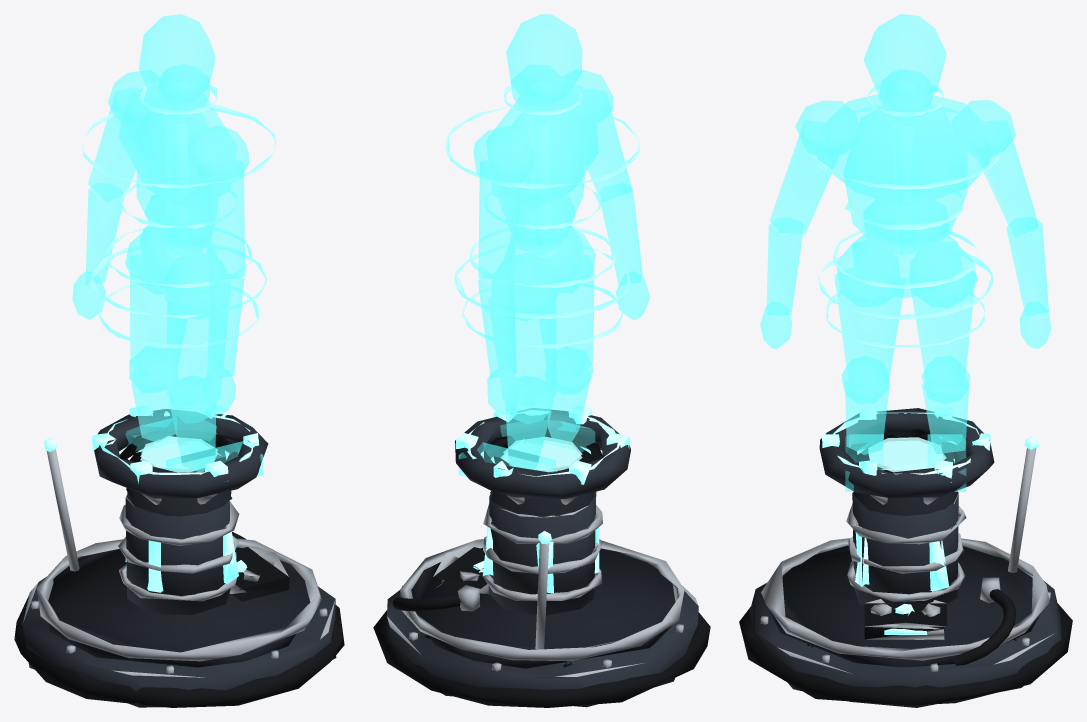
The model's file is decoy.glb.
The picture shows the model from 3 angles, left to right: view 1: azimuth 30°, elevation 25°; view 2: azimuth 150°, elevation 25°; view 3: azimuth 270°, elevation 25°; orthographic projection.
Visible parts, largest first — view 1: plato_tapa, plato, holo_pecho, holo_torso, anillo, columna, plato_bumper, plato_aro, holo_muslo_1, holo_cabeza, holo_brazo_1, holo_muslo_3 (+38 smaller); view 2: plato_tapa, plato, holo_pecho, holo_torso, anillo, columna, plato_bumper, holo_muslo_3, holo_cabeza, plato_aro, holo_brazo_3, holo_muslo_1 (+35 smaller); view 3: holo_pecho, holo_torso, plato_tapa, plato, anillo, plato_bumper, columna, holo_muslo_1, holo_cabeza, plato_aro, holo_pelvis, holo_muslo_3 (+36 smaller).
Boxes of the visible parts, x1,y1,x2,y2 form: plato_tapa: [48, 547, 310, 667]; plato: [22, 577, 336, 707]; holo_pecho: [118, 84, 237, 210]; holo_torso: [136, 99, 218, 256]; anillo: [94, 409, 268, 498]; columna: [125, 495, 230, 614]; plato_bumper: [14, 595, 344, 707]; plato_aro: [36, 538, 321, 661]; holo_muslo_1: [163, 282, 229, 405]; holo_cabeza: [138, 14, 215, 104]; holo_brazo_1: [197, 160, 244, 279]; holo_muslo_3: [126, 254, 186, 377]; plato_tapa: [411, 548, 675, 668]; plato: [386, 585, 698, 707]; holo_pecho: [486, 85, 598, 209]; holo_torso: [499, 101, 584, 256]; anillo: [455, 408, 630, 498]; columna: [488, 491, 596, 615]; plato_bumper: [373, 610, 710, 707]; holo_muslo_3: [488, 282, 558, 406]; holo_cabeza: [506, 14, 582, 104]; plato_aro: [400, 539, 684, 661]; holo_brazo_3: [478, 160, 523, 279]; holo_muslo_1: [539, 255, 595, 376]; holo_pecho: [817, 94, 989, 205]; holo_torso: [843, 105, 967, 255]; plato_tapa: [770, 545, 1040, 667]; plato: [750, 580, 1061, 707]; anillo: [819, 408, 994, 497]; plato_bumper: [739, 603, 1072, 705]; columna: [852, 492, 958, 605]; holo_muslo_1: [834, 267, 905, 388]; holo_cabeza: [863, 14, 946, 103]; plato_aro: [761, 538, 1049, 660]; holo_pelvis: [851, 219, 961, 298]; holo_muslo_3: [908, 267, 977, 387].
Bounding box in the file's own units: 0.2751 × 0.5688 × 0.2757.
